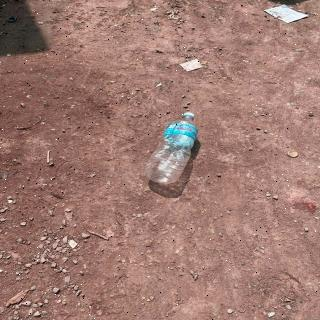Plastic-bottle: (145, 110, 202, 187)
